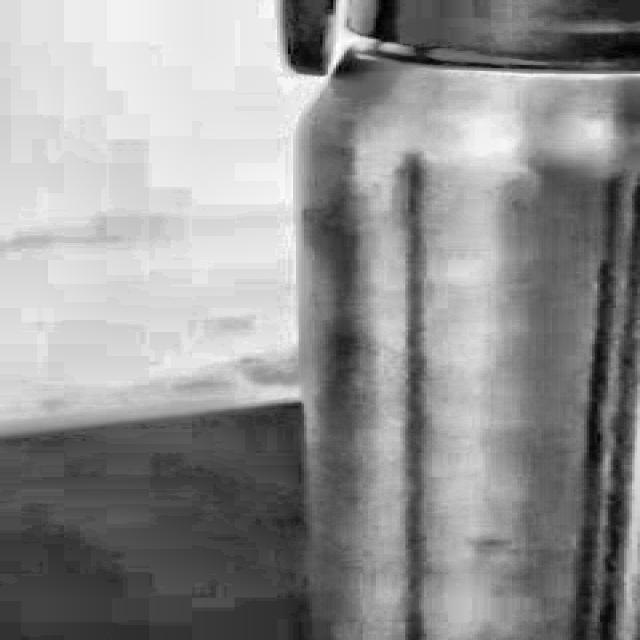bottle: (280, 0, 640, 640)
